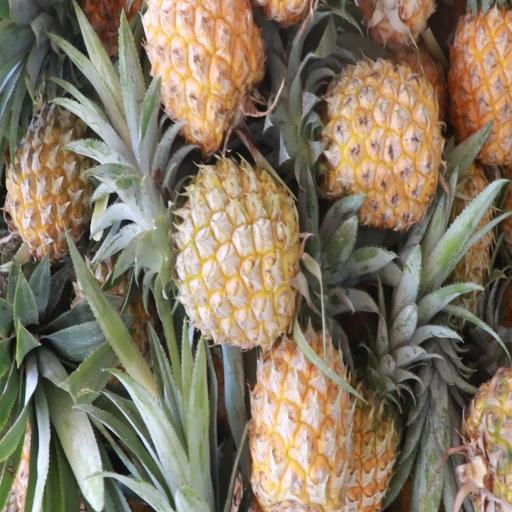Pineapple - v8 v1: (158, 149, 296, 352), (294, 52, 439, 225), (243, 295, 353, 512), (326, 272, 402, 512), (12, 91, 96, 256), (425, 6, 512, 154)
